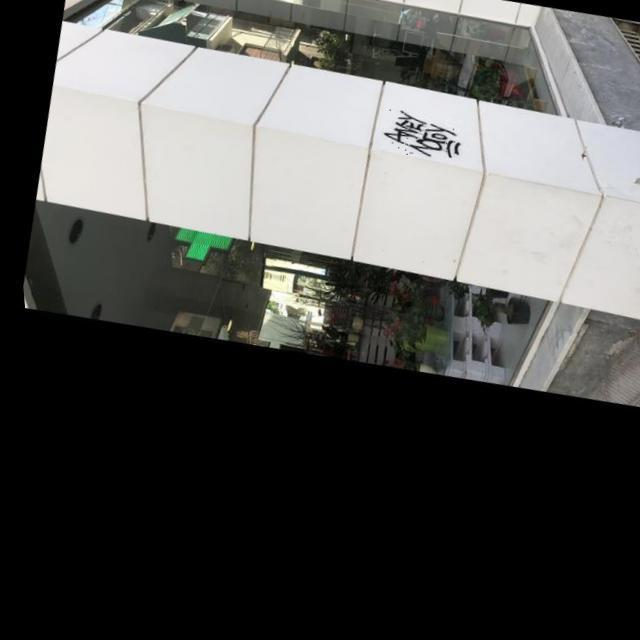-: (376, 110, 464, 172)
